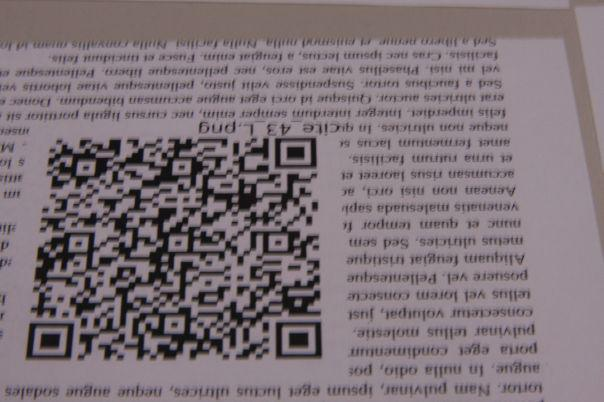qr_code: (26, 137, 323, 361)
